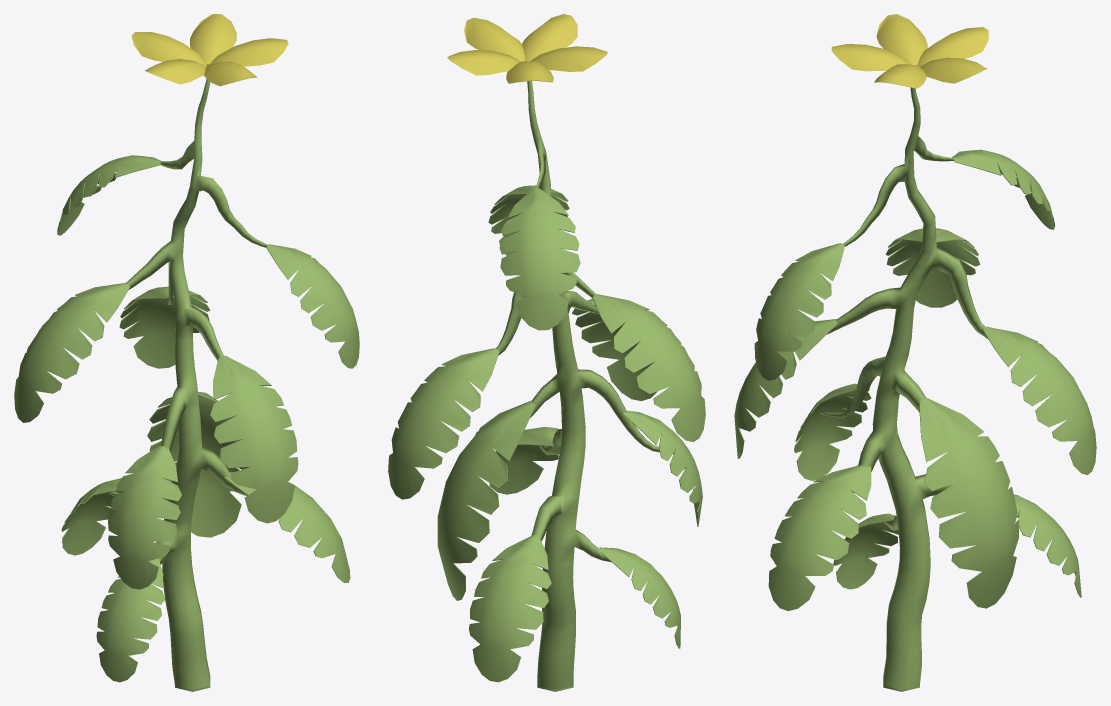
File: Plant01.fbx
3 views of the same model, side by side, from view 1: azimuth 30°, elevation 25°; view 2: azimuth 150°, elevation 25°; view 3: azimuth 270°, elevation 25° (orthographic). The views are drawn at different scales.
Parts seen in each view (by area): view 1: Plant01_LOD0; view 2: Plant01_LOD0; view 3: Plant01_LOD0.
Boxes of the visible parts, <box> form: Plant01_LOD0: <box>14,14,359,691</box>; Plant01_LOD0: <box>388,14,705,691</box>; Plant01_LOD0: <box>734,14,1096,691</box>.
Size of what is drawn, in the model's own units: 27.39 by 61.39 by 31.19.
